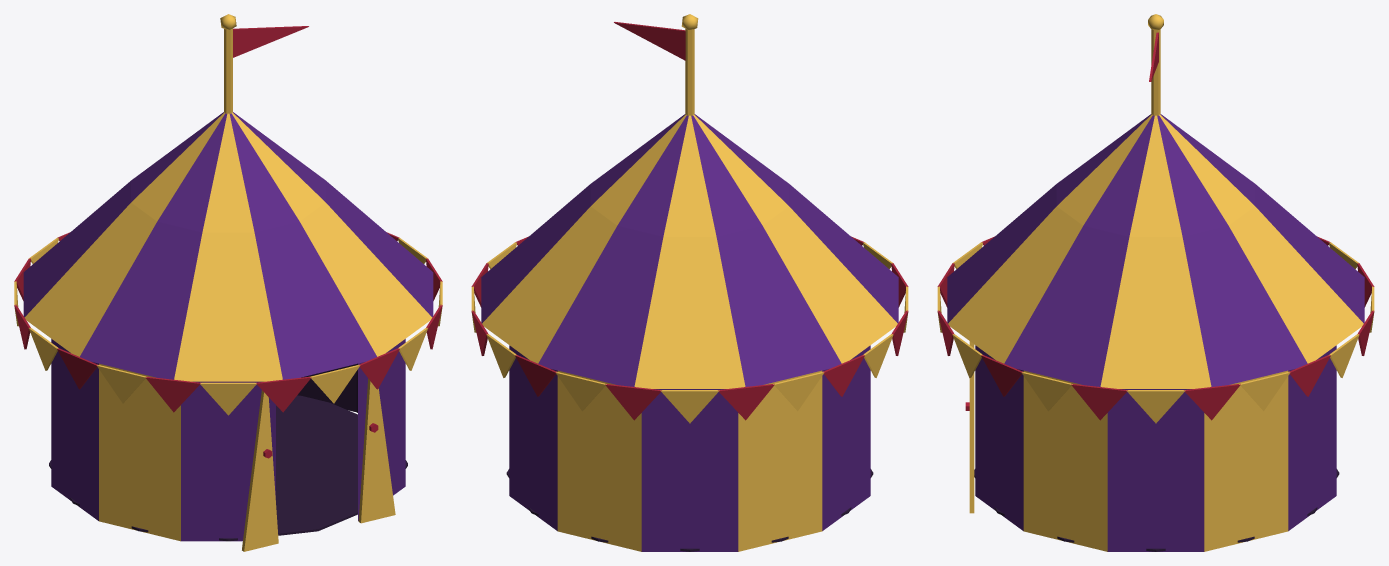
The model's file is festival_tent.glb.
3 renders of one model, left to right at view 1: azimuth 30°, elevation 25°; view 2: azimuth 150°, elevation 25°; view 3: azimuth 270°, elevation 25°, orthographic.
Visible parts, largest first — view 1: festival_tent; view 2: festival_tent; view 3: festival_tent.
Part boxes in pixels (bbox=[...]): festival_tent: bbox=[14, 14, 442, 551]; festival_tent: bbox=[471, 14, 908, 551]; festival_tent: bbox=[937, 14, 1374, 551].
Size of the model in its own units: 3.74 by 4.36 by 3.74.
